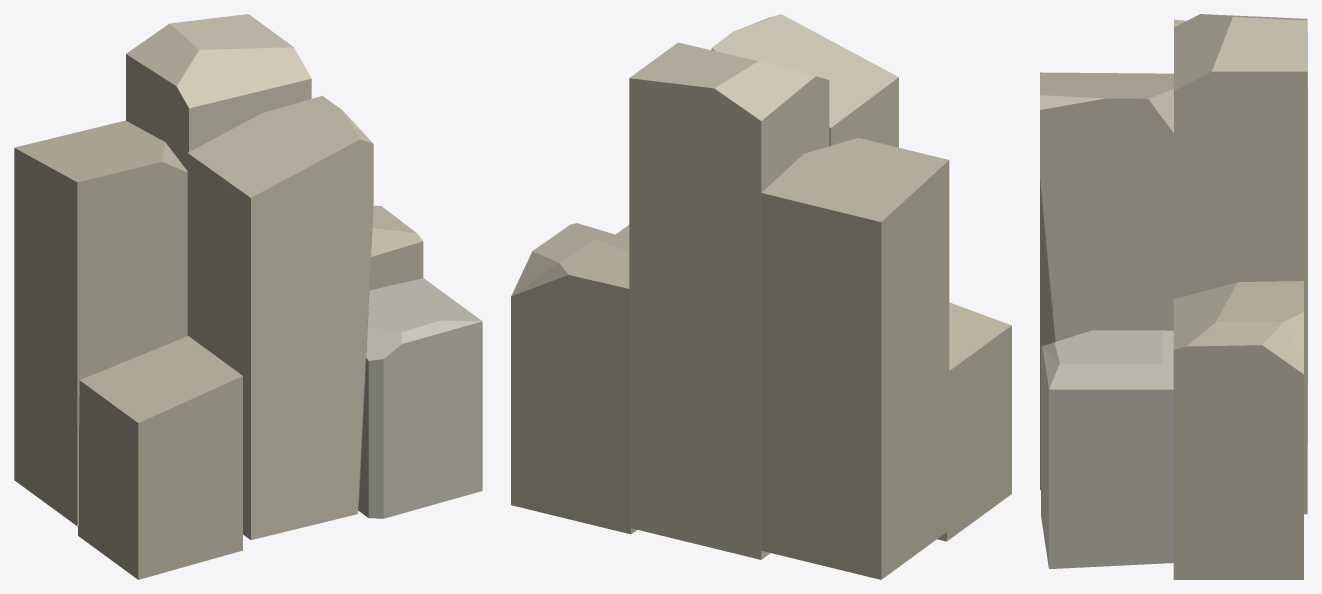
Rendered from Rocks_Square_l_02.fbx.
3 views of the same model, side by side, from view 1: azimuth 30°, elevation 25°; view 2: azimuth 150°, elevation 25°; view 3: azimuth 270°, elevation 25° (orthographic). The views are drawn at different scales.
Visible parts, largest first — view 1: Rocks_Square_l_02; view 2: Rocks_Square_l_02; view 3: Rocks_Square_l_02.
Part boxes in pixels (box(x1,y1,x2,y2)): Rocks_Square_l_02: box(14, 14, 482, 579); Rocks_Square_l_02: box(511, 14, 1011, 579); Rocks_Square_l_02: box(1040, 14, 1307, 579).
Bounding box in the file's own units: 1.94 × 2.34 × 1.23.
